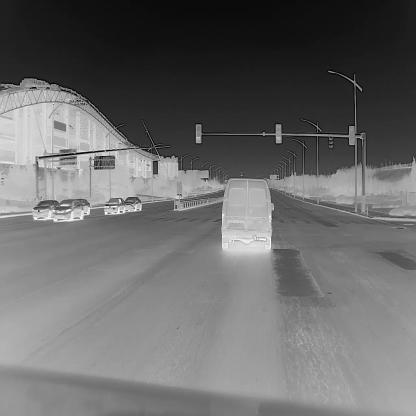car: (220, 176, 273, 249), (53, 198, 83, 221), (31, 199, 59, 219), (103, 197, 125, 215), (123, 195, 142, 212), (75, 197, 91, 215), (176, 193, 183, 199), (270, 202, 274, 209)
